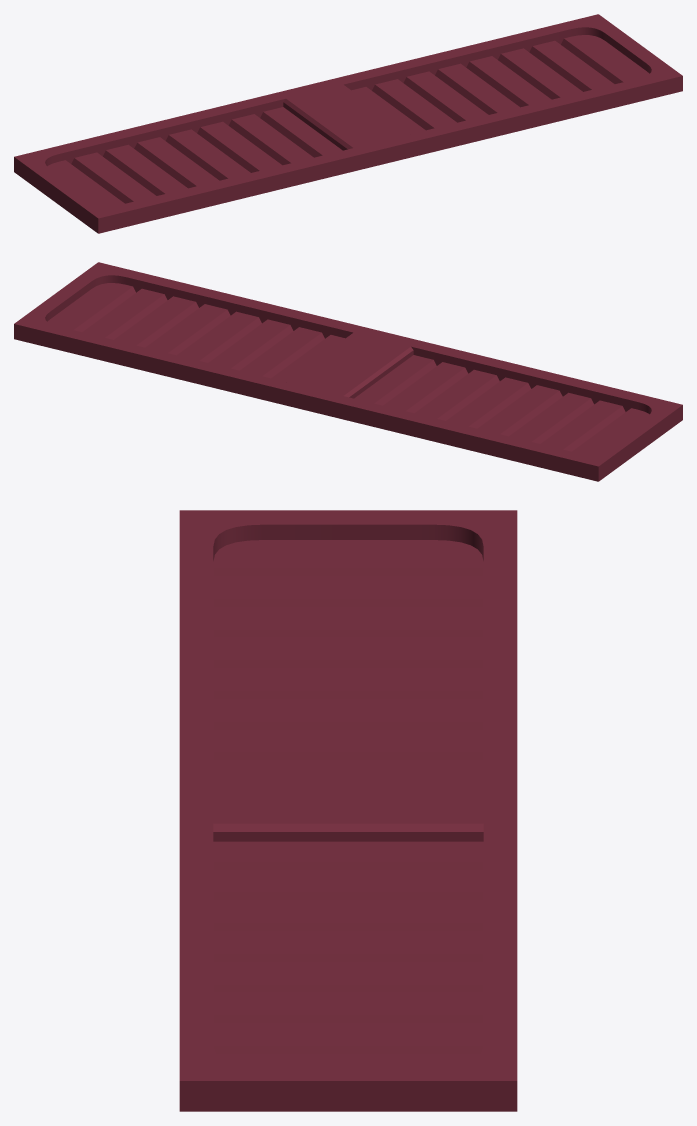
The model's file is Floor_B_4x1m_B.FBX.
3 views of the same model, one above another, from view 1: azimuth 30°, elevation 25°; view 2: azimuth 150°, elevation 25°; view 3: azimuth 270°, elevation 25° (orthographic). The views are drawn at different scales.
Parts seen in each view (by area): view 1: Floor_B_4x1m_B; view 2: Floor_B_4x1m_B; view 3: Floor_B_4x1m_B.
Part boxes in pixels (x1,y1,x2,y2): Floor_B_4x1m_B: [14, 14, 682, 233]; Floor_B_4x1m_B: [14, 262, 682, 481]; Floor_B_4x1m_B: [179, 510, 517, 1111].
Size of the model in its own units: 400 by 10 by 100.
